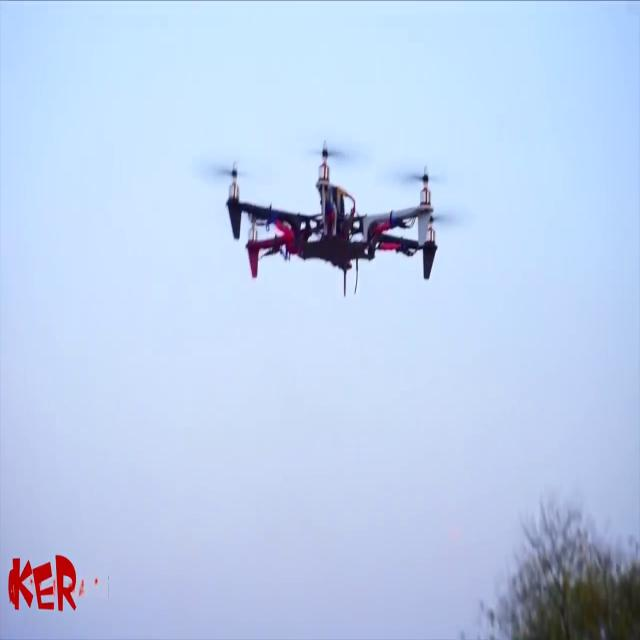drone: (210, 136, 450, 315)
